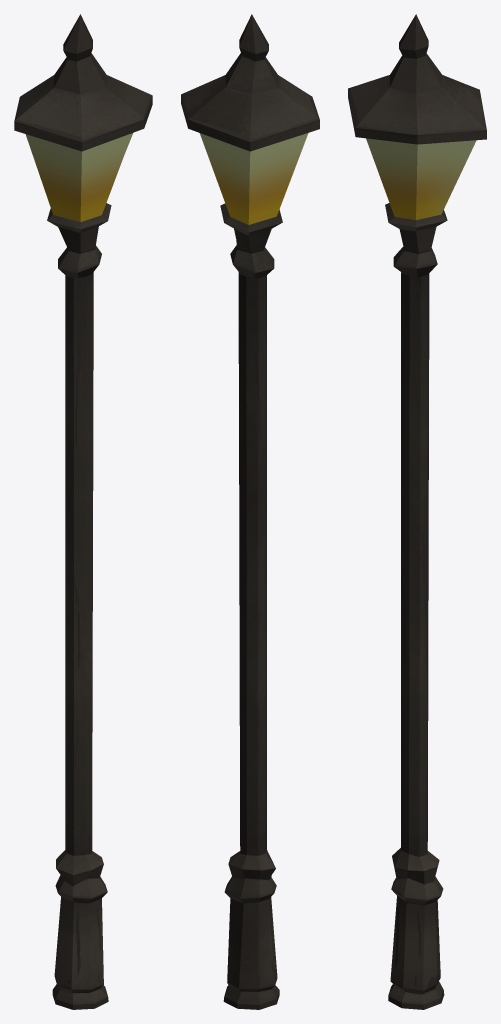
File: Street_light.fbx
3 renders of one model, left to right at view 1: azimuth 30°, elevation 25°; view 2: azimuth 150°, elevation 25°; view 3: azimuth 330°, elevation 25°, orthographic.
Visible parts, largest first — view 1: Street_light; view 2: Street_light; view 3: Street_light.
Part boxes in pixels (box(x1,y1,x2,y2)): Street_light: box(14, 14, 152, 1009); Street_light: box(181, 14, 319, 1009); Street_light: box(348, 14, 486, 1009).
Bounding box in the file's own units: 61.89 × 420 × 48.1.
